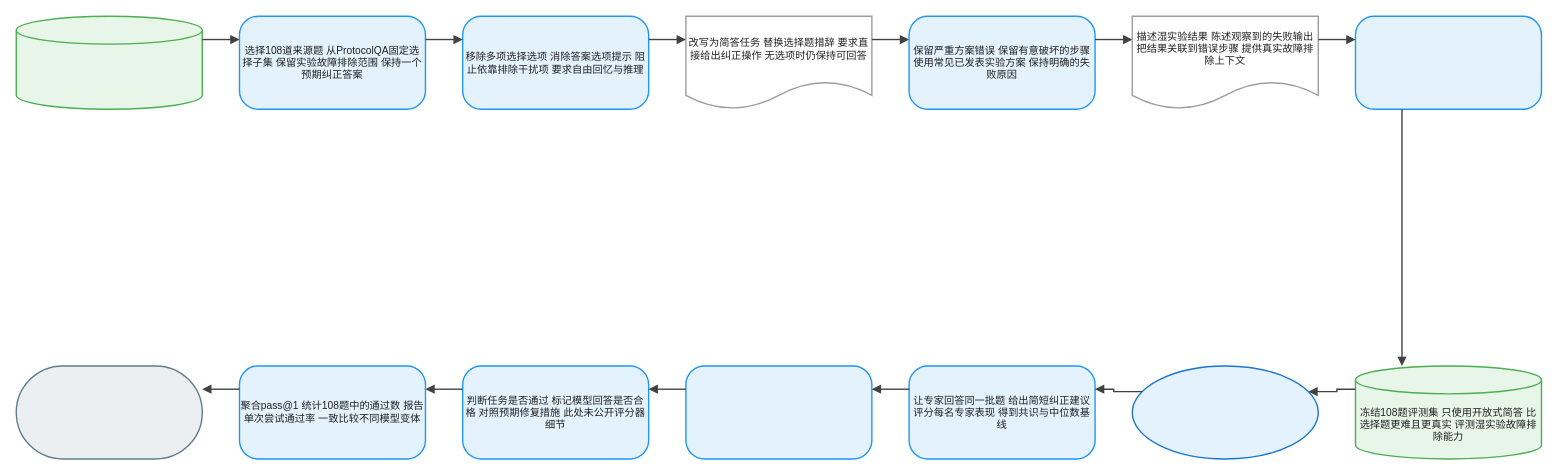
This 1559x476 diagram has some shape labels left out. The centre of each missing label's shape, as x and y in pixels:
"从FutureHouse ProtocolQA出发 使用已发表实验方案场景 保留常见湿实验流程 来源为135题选择题子任务" goes at pixel 109 62.
"对比专家基线 专家共识基线：57% 专家中位数基线：42% 报告模型与专家差距" goes at pixel 109 412.
"执行模型评测 逐题提供开放式问题 收集一个简答完成 pass@1只使用一次尝试" goes at pixel 778 412.
"招募专家基线组 纳入19名博士科学家 要求超过一年湿实验经验 为该变体采集新基线" goes at pixel 1225 412.
"询问如何修复流程 要求开放式回答 聚焦实际实验方案修复 不泄露理想答案" goes at pixel 1448 62.
